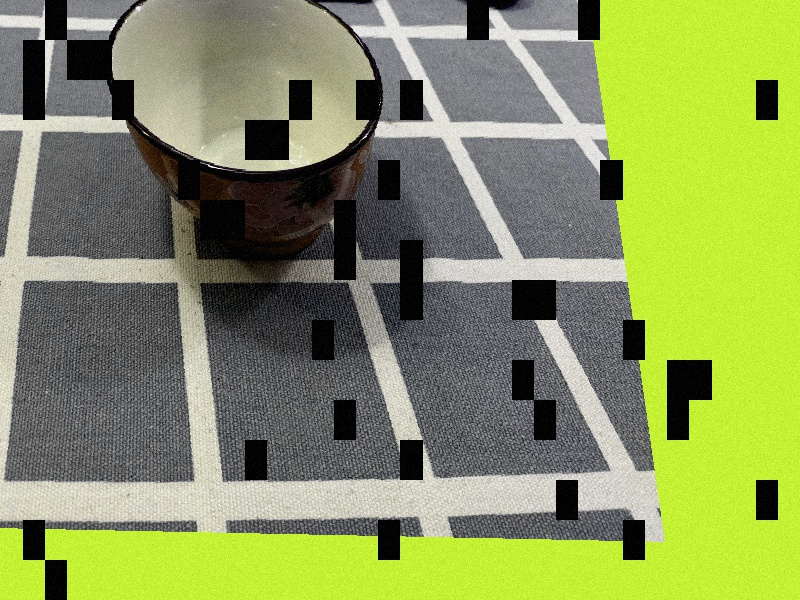bowl_small: (86, 0, 416, 270)
